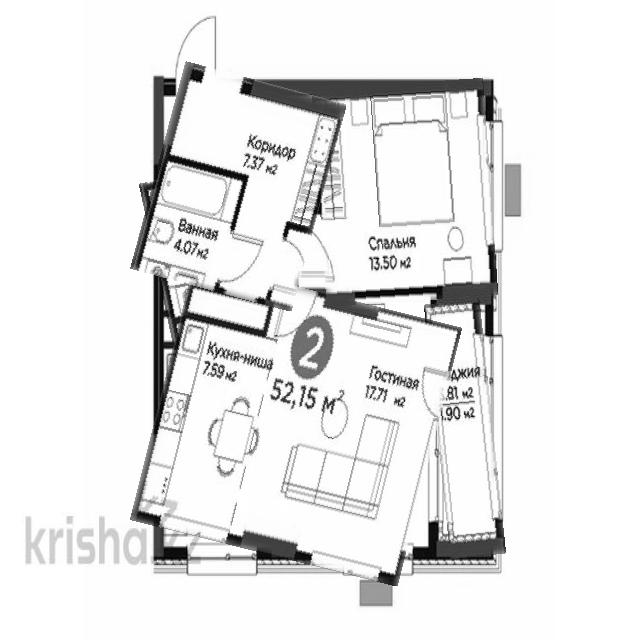balcony: (431, 300, 499, 558)
bathroom: (148, 168, 254, 347)
hallway: (161, 62, 344, 303)
living_room: (316, 82, 495, 304)
studio: (131, 283, 462, 586)
